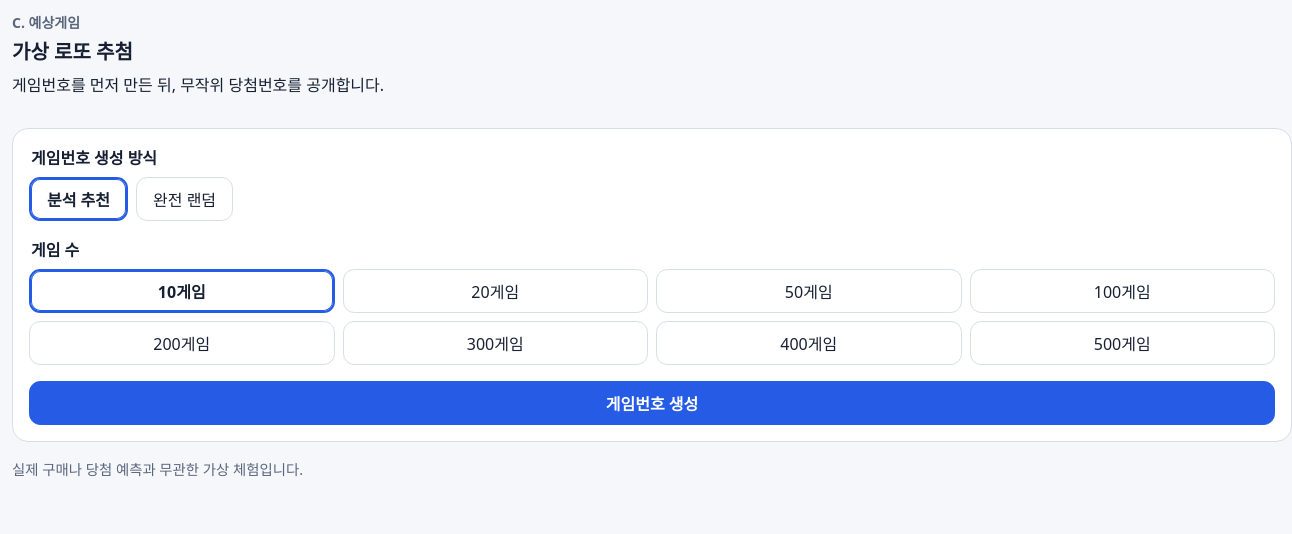
Test case: ExpectedGameScreen › shows generated games before revealing the virtual draw
Click the button "게임번호 생성". click: (652,403)
box: [29,381,1275,425]
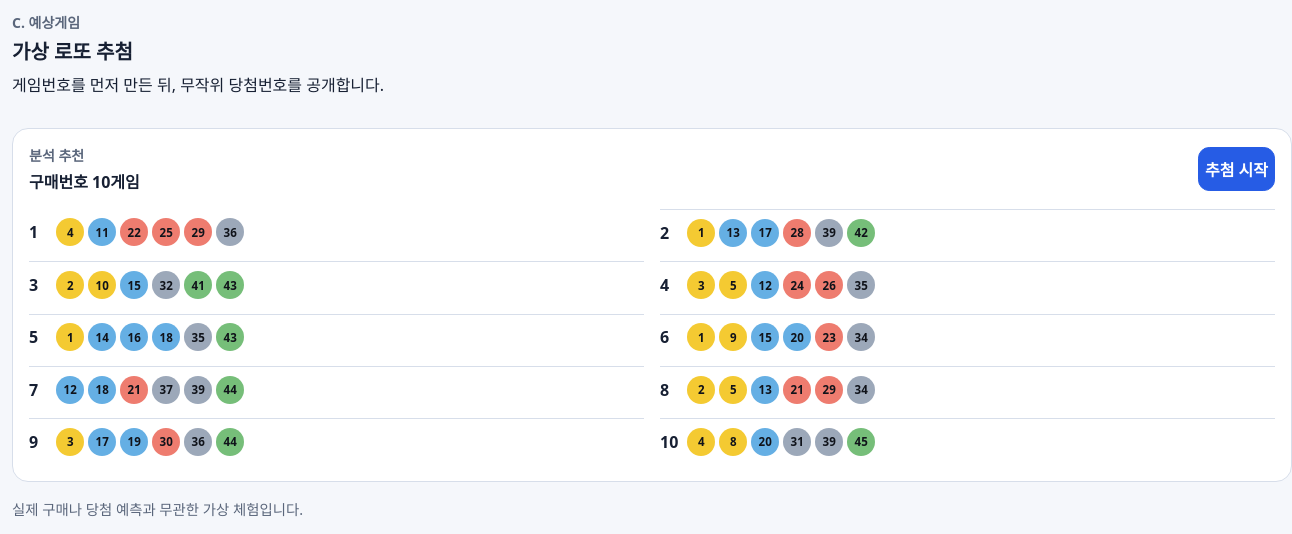
Expected: the number of list items named "가상 구매 조합" is 10
Expected: the button "추첨 시작" is shown, [1198,147,1275,191]
